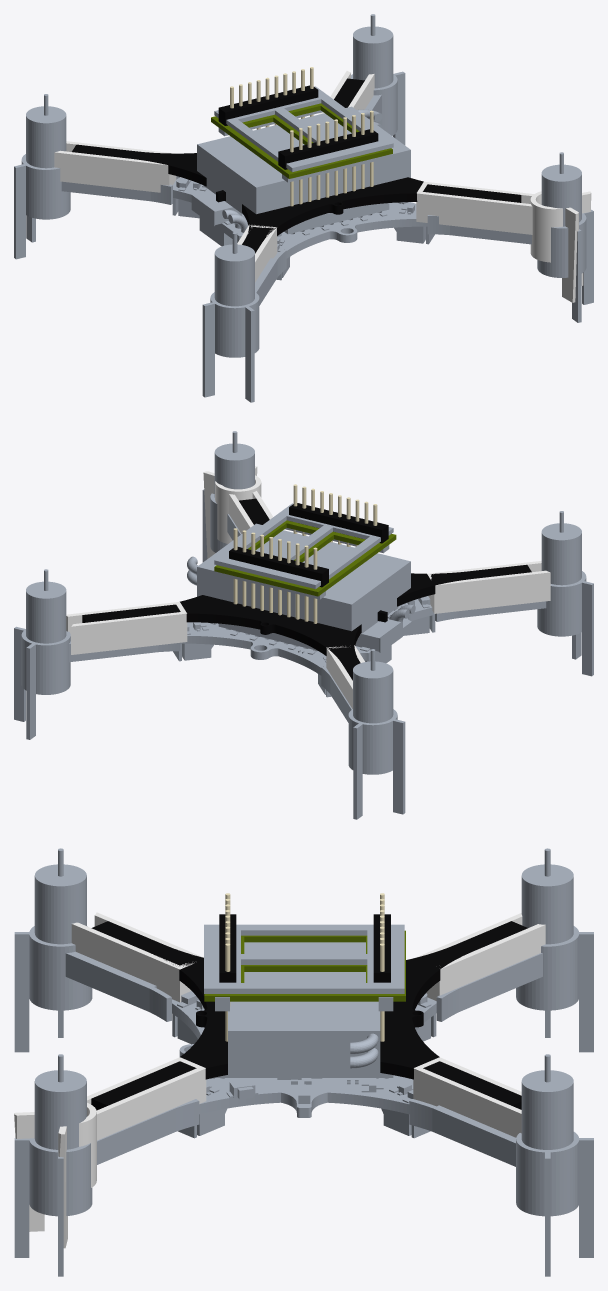
File: crazyflie.dae
3 views of the same model, one above another, from view 1: azimuth 30°, elevation 25°; view 2: azimuth 150°, elevation 25°; view 3: azimuth 270°, elevation 25° (orthographic). The views are drawn at different scales.
Visible parts, largest first — view 1: Crazyflie, pcb, MotorMountsSlanted_006, MotorMountsSlanted_001, Part3, Part5, Part5_001, MotorMountsSlanted_002, MotorMountsSlanted; view 2: Crazyflie, pcb, MotorMountsSlanted, MotorMountsSlanted_002, Part3, MotorMountsSlanted_006, Part5, Part5_001, MotorMountsSlanted_001; view 3: Crazyflie, pcb, MotorMountsSlanted_006, MotorMountsSlanted_002, MotorMountsSlanted, MotorMountsSlanted_001, Part3, Part5, Part5_001.
Part boxes in pixels (bbox=[...]): Crazyflie: bbox=[14, 14, 593, 402]; pcb: bbox=[72, 78, 521, 253]; MotorMountsSlanted_006: bbox=[416, 181, 591, 302]; MotorMountsSlanted_001: bbox=[54, 141, 176, 192]; Part3: bbox=[211, 103, 392, 178]; Part5: bbox=[278, 129, 378, 169]; Part5_001: bbox=[218, 85, 318, 125]; MotorMountsSlanted_002: bbox=[237, 224, 277, 282]; MotorMountsSlanted: bbox=[319, 71, 374, 114]; Crazyflie: bbox=[14, 431, 593, 819]; pcb: bbox=[82, 498, 531, 680]; MotorMountsSlanted: bbox=[66, 602, 187, 654]; MotorMountsSlanted_002: bbox=[427, 561, 550, 613]; Part3: bbox=[214, 520, 396, 596]; MotorMountsSlanted_006: bbox=[203, 466, 272, 558]; Part5: bbox=[289, 503, 388, 543]; Part5_001: bbox=[229, 547, 328, 587]; MotorMountsSlanted_001: bbox=[326, 645, 364, 708]; Crazyflie: bbox=[14, 848, 593, 1276]; pcb: bbox=[91, 921, 527, 1110]; MotorMountsSlanted_006: bbox=[14, 1057, 206, 1248]; MotorMountsSlanted_002: bbox=[71, 912, 203, 1002]; MotorMountsSlanted: bbox=[413, 1057, 521, 1137]; MotorMountsSlanted_001: bbox=[415, 913, 545, 1000]; Part3: bbox=[204, 930, 405, 1001]; Part5: bbox=[219, 914, 236, 982]; Part5_001: bbox=[373, 914, 390, 982].
Bounding box in the file's own units: 0.078 × 0.078 × 0.0347.
